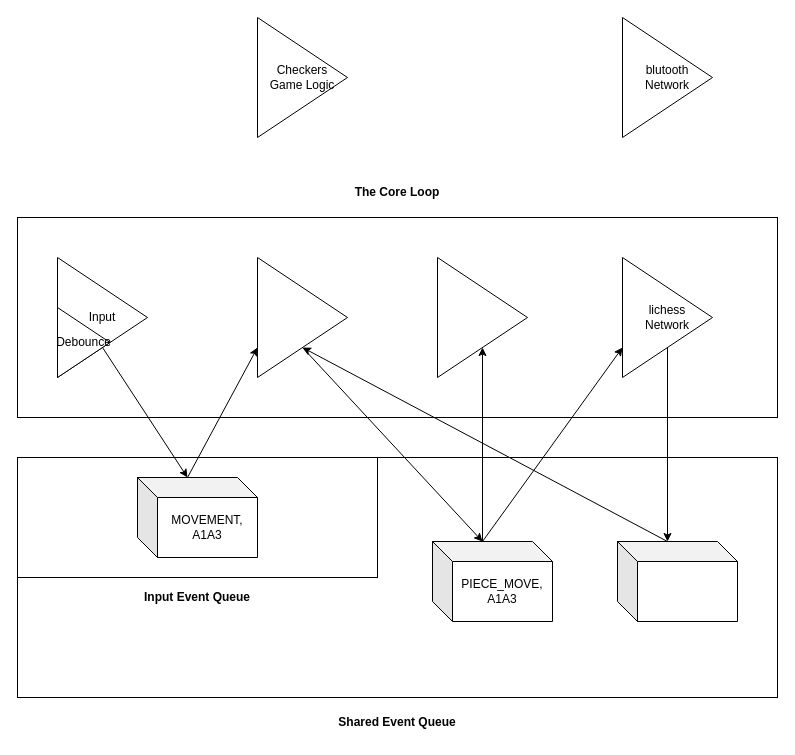
This 795x755 diagram has some shape labels left out. Here are the shapes that lost their labels. From the top down, the centre of each, then its label:
At point 302,317: "Chess Game Logic".
At point 482,317: "Output".
At point 677,581: "OPPONENT_PIECE_MOVE, H7H6".
